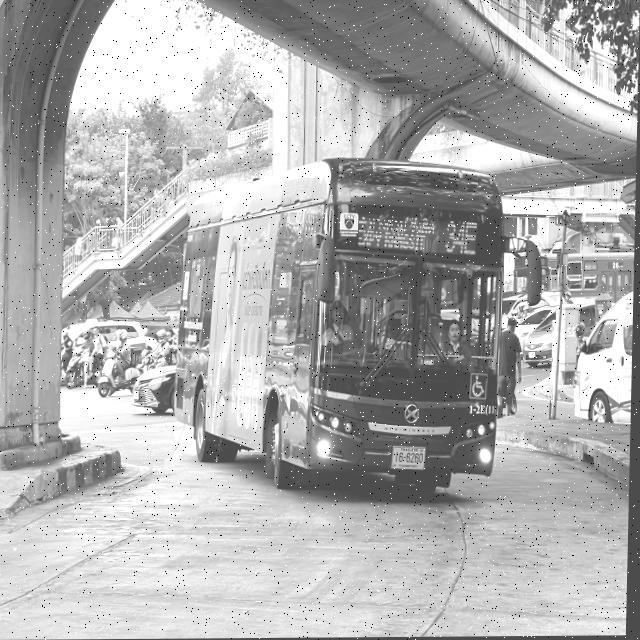Bus-Line-Number: (442, 211, 486, 264)
Destination-Sign-Normal: (355, 203, 440, 257)
TSB-Bus: (175, 158, 518, 497)
